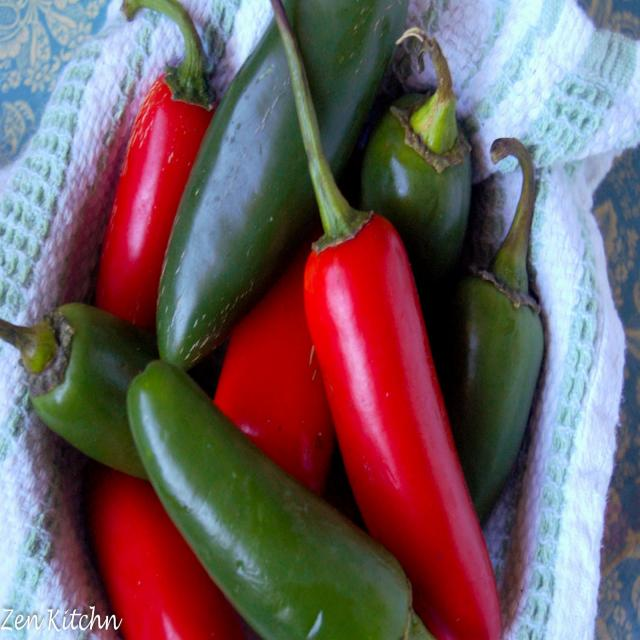aji: (114, 345, 401, 640), (315, 240, 502, 618), (167, 4, 361, 355), (94, 61, 217, 335)
